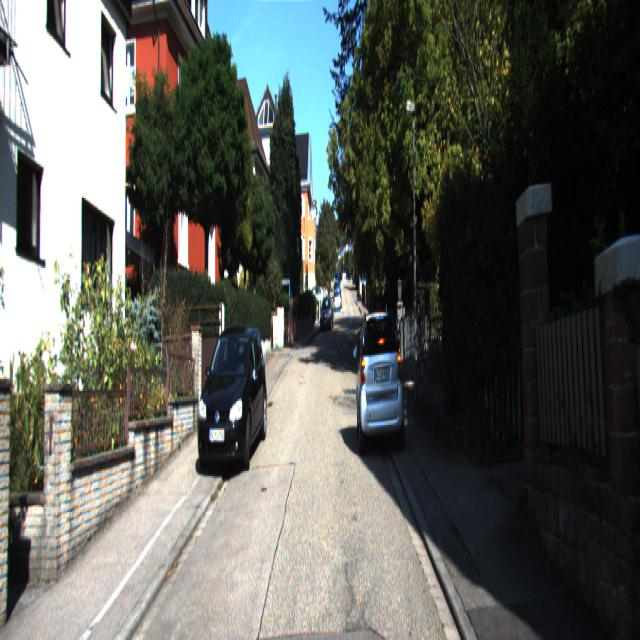Car: (195, 321, 268, 478), (354, 299, 406, 455), (319, 295, 334, 328)
